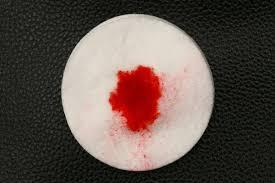cotton: (62, 15, 213, 170)
